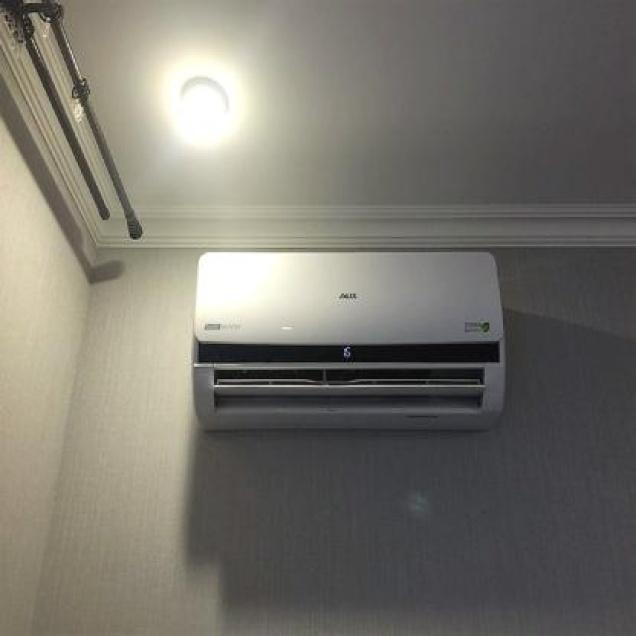AC: (191, 249, 505, 432)
